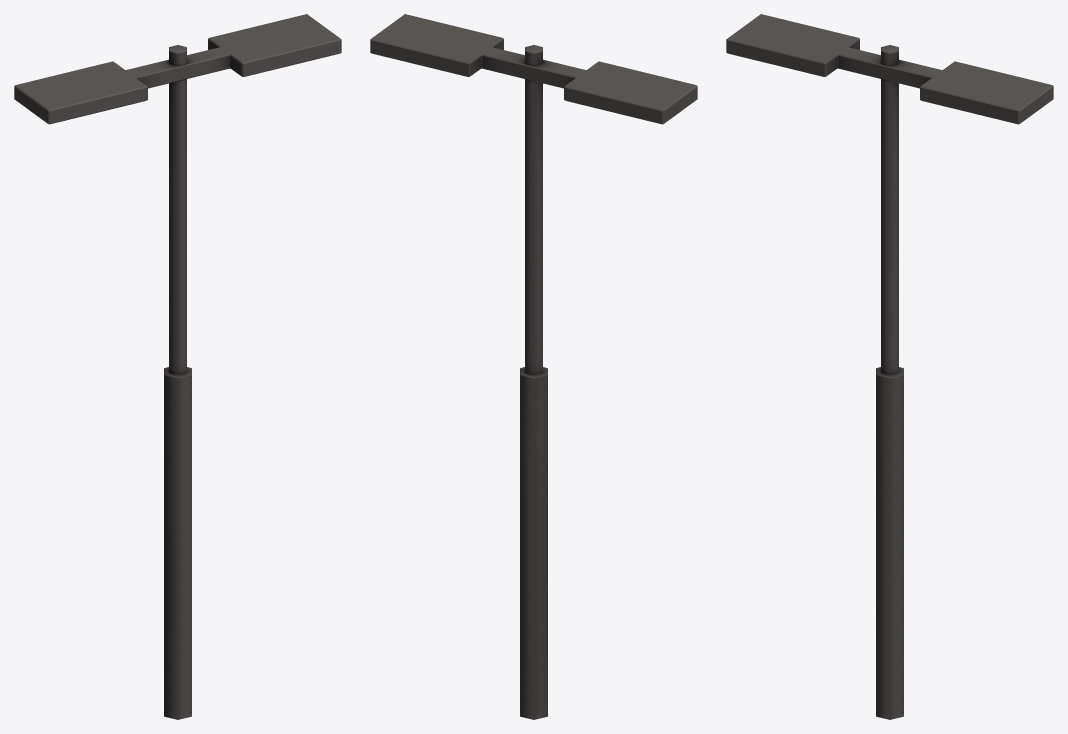
The model's file is StreetLamp.fbx.
3 views of the same model, side by side, from view 1: azimuth 30°, elevation 25°; view 2: azimuth 150°, elevation 25°; view 3: azimuth 330°, elevation 25° (orthographic).
Parts seen in each view (by area): view 1: lamp; view 2: lamp; view 3: lamp.
Part boxes in pixels (box(x1,y1,x2,y2)): lamp: box(14, 14, 341, 719); lamp: box(370, 14, 697, 719); lamp: box(726, 14, 1053, 719).
Size of the model in its own units: 0.058 by 0.1252 by 0.0119.
Materials: 1 (1 with a texture image).
